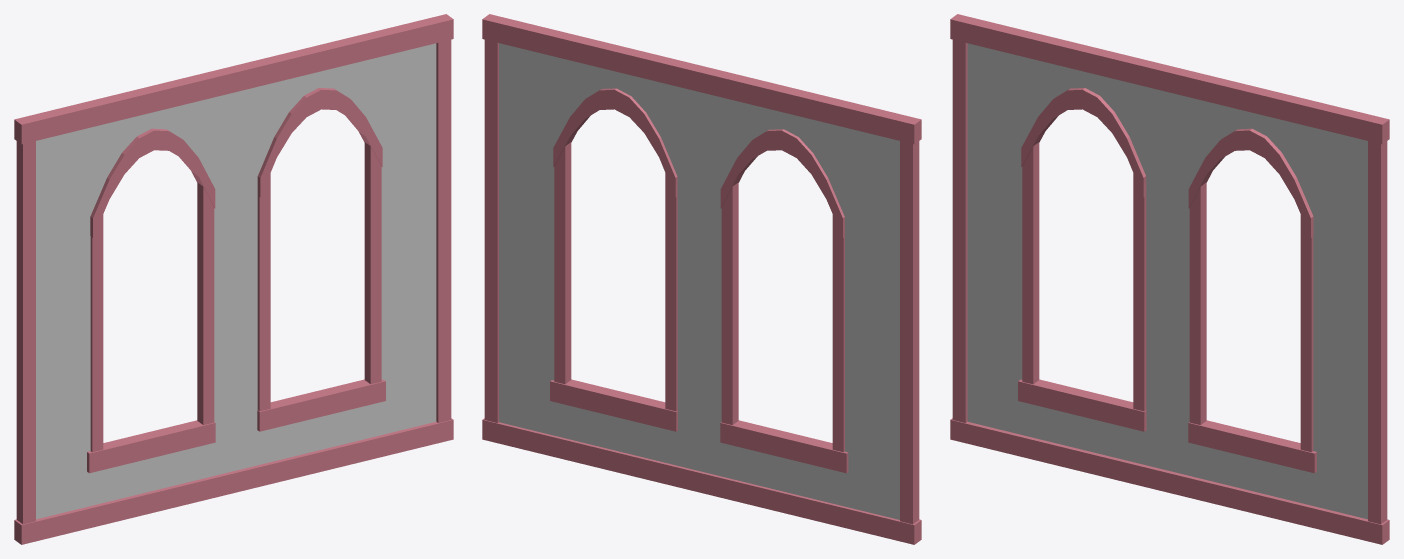
File: DoubleArchedWindow 1.fbx
3 views of the same model, side by side, from view 1: azimuth 30°, elevation 25°; view 2: azimuth 150°, elevation 25°; view 3: azimuth 330°, elevation 25° (orthographic).
Visible parts, largest first — view 1: Wall_LOD0; view 2: Wall_LOD0; view 3: Wall_LOD0.
Boxes of the visible parts, x1,y1,x2,y2 form: Wall_LOD0: (14,14,453,544); Wall_LOD0: (482,14,921,544); Wall_LOD0: (950,14,1389,544).
Size of what is drawn, in the model's own units: 226 by 210 by 6.96.
